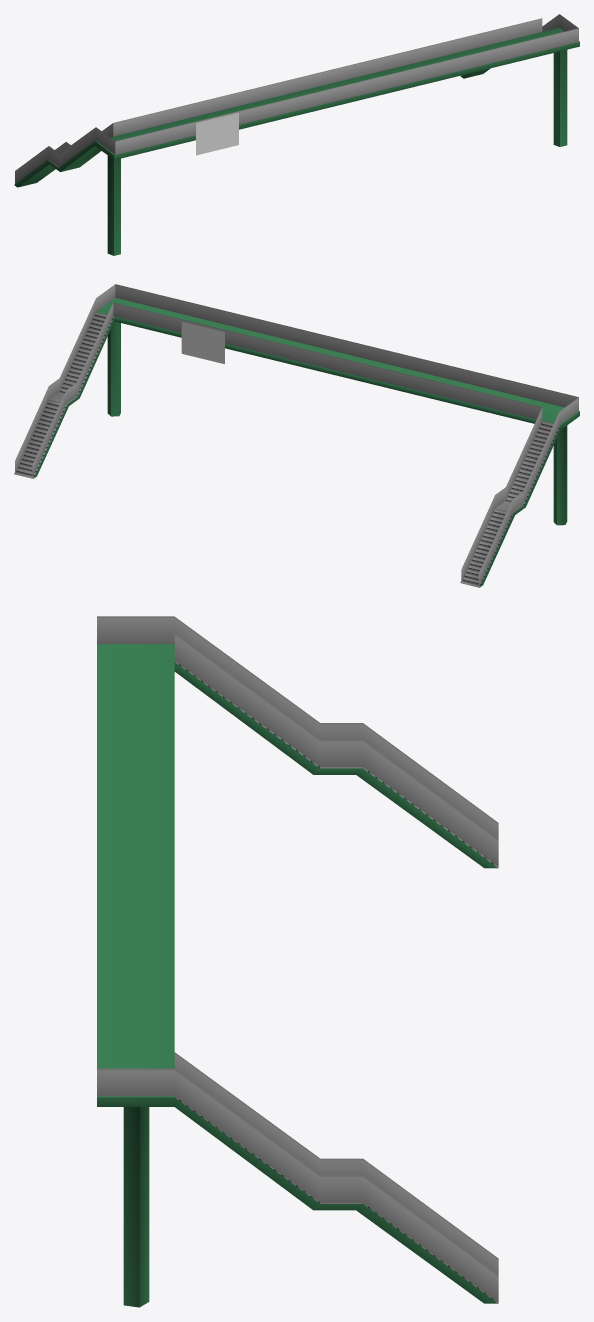
File: HODOUKYOU.glb
3 views of the same model, one above another, from view 1: azimuth 30°, elevation 25°; view 2: azimuth 150°, elevation 25°; view 3: azimuth 270°, elevation 25° (orthographic). The views are drawn at different scales.
Parts seen in each view (by area): view 1: FRAME_ROOT; view 2: FRAME_ROOT; view 3: FRAME_ROOT.
Part boxes in pixels (x1,y1,x2,y2): FRAME_ROOT: (14, 14, 579, 255); FRAME_ROOT: (14, 284, 579, 587); FRAME_ROOT: (97, 616, 498, 1307).
Size of the model in its own units: 75.44 by 18.7 by 28.29.
Materials: 3 (2 with a texture image).
